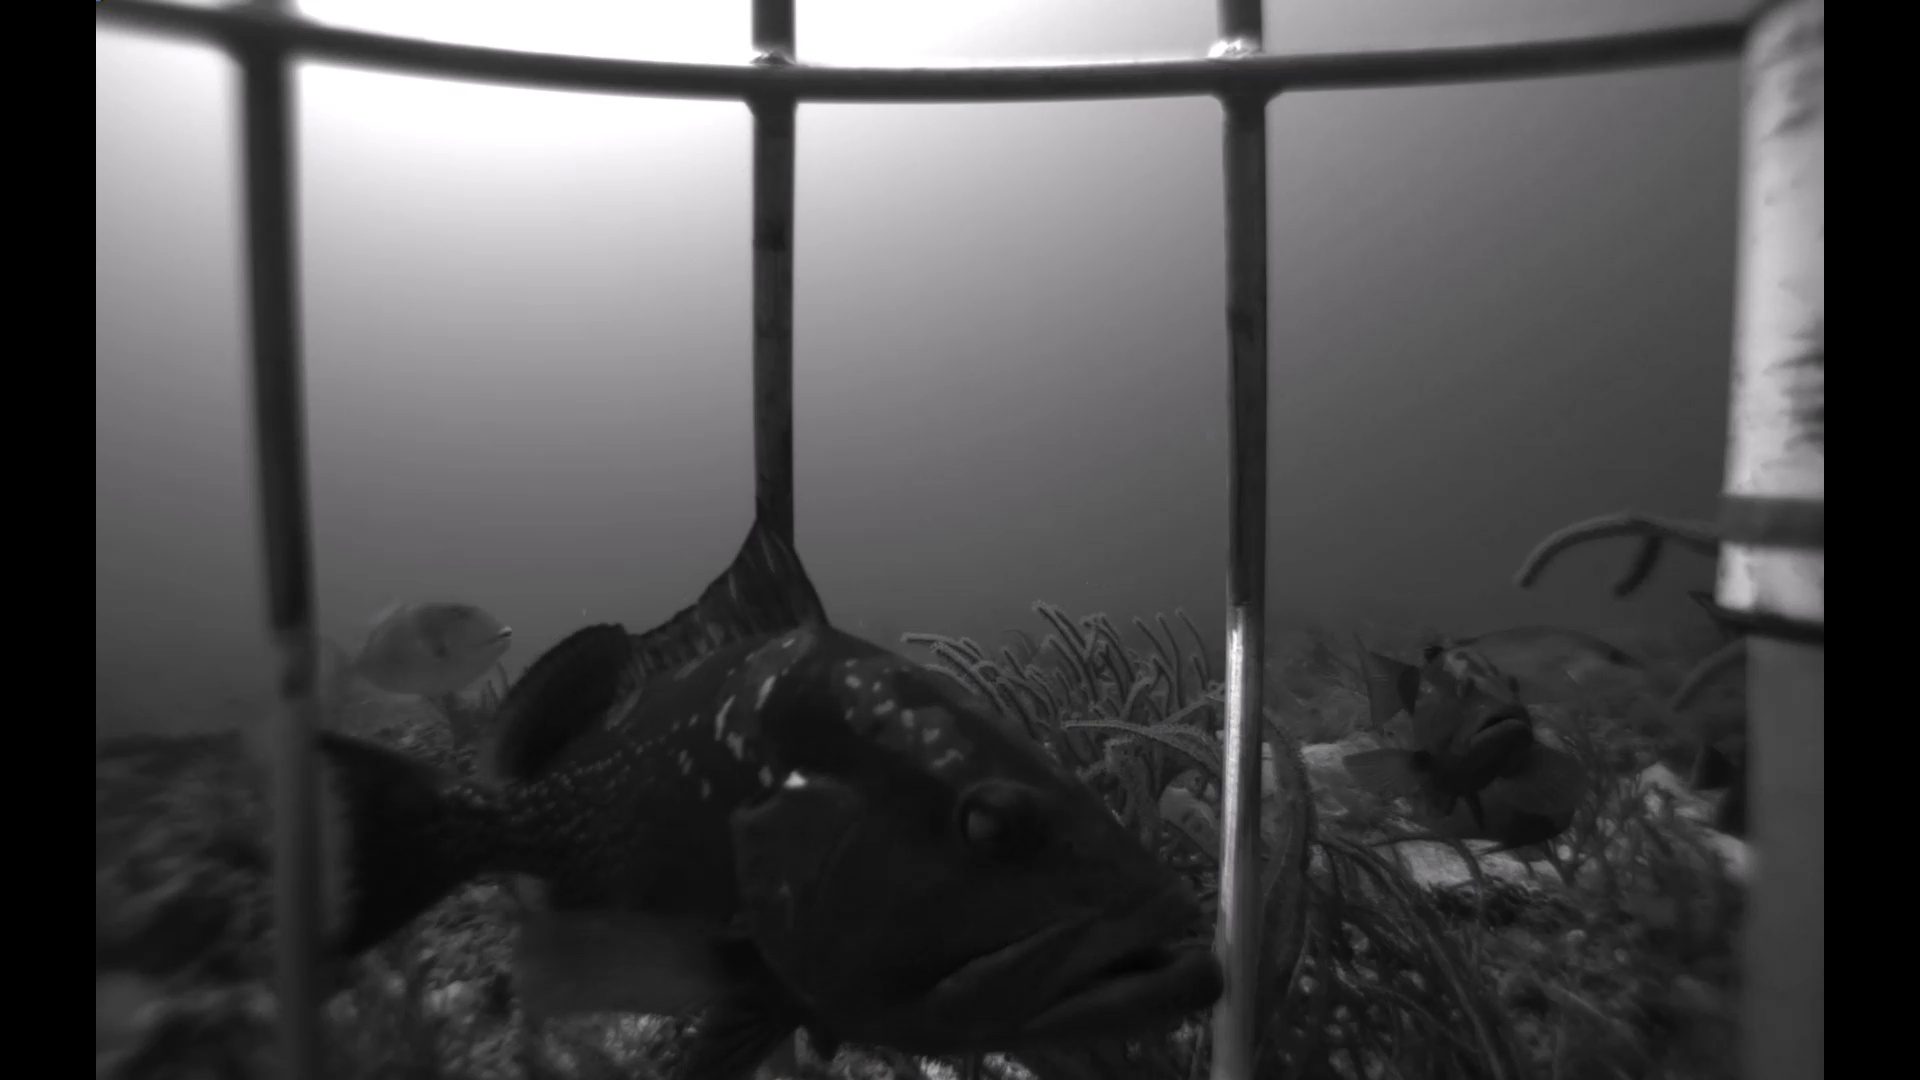BALISTESCAPRISCUS-189030502: (319, 563, 526, 712)
EPINEPHELUSMORIO-170021211: (306, 495, 1226, 1073), (1331, 636, 1547, 825), (1681, 589, 1749, 657)
LACHNOLAIMUSMAXIMUS-170281801: (1160, 735, 1360, 835)
LUTJANUSGRISEUS-170151109: (1336, 608, 1673, 729)
POMACANTHUSARCUATUS-170290201: (1385, 752, 1589, 858), (1671, 690, 1743, 840)
